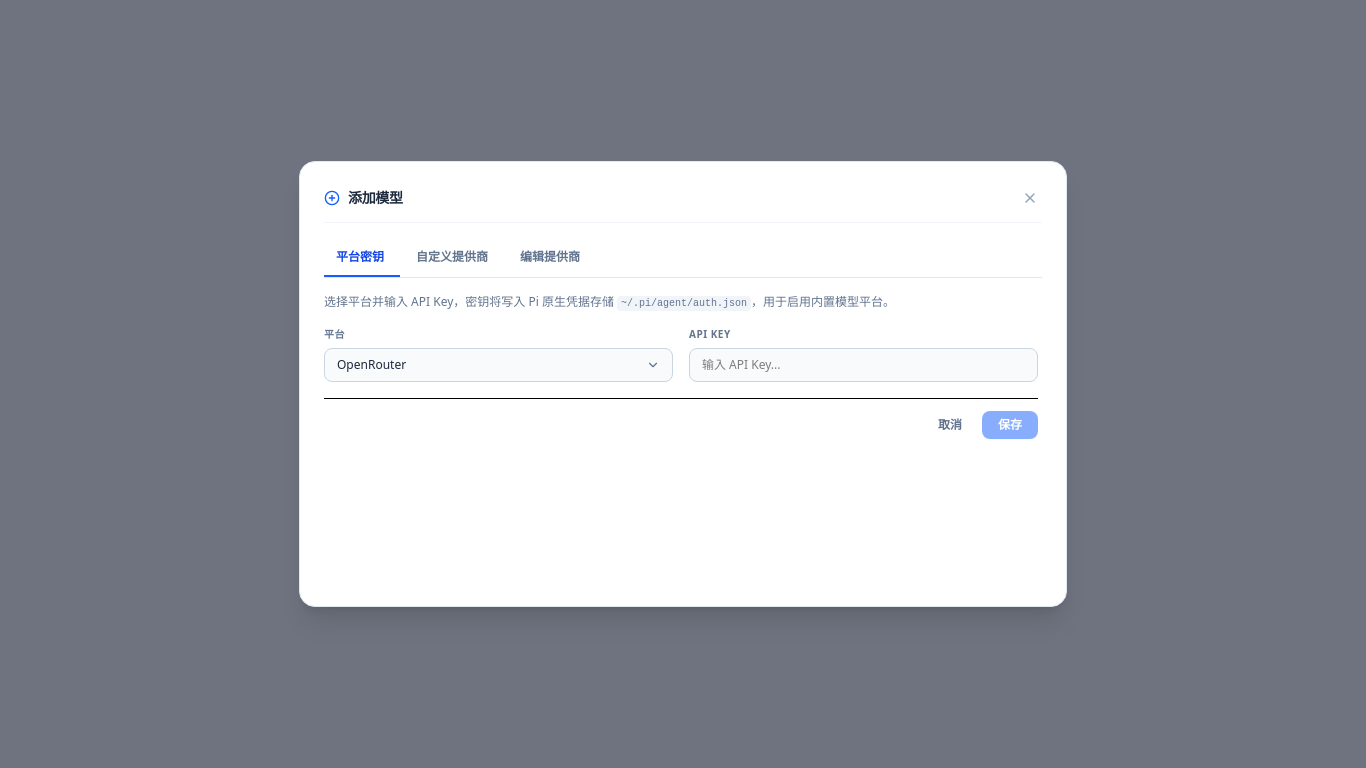
Test case: ProviderModal 行为 › 列表渲染：切到「编辑提供商」后展示 fetch 返回的提供商
Click the button "编辑提供商". click: point(550, 258)
box: left=504, top=239, right=596, bottom=277
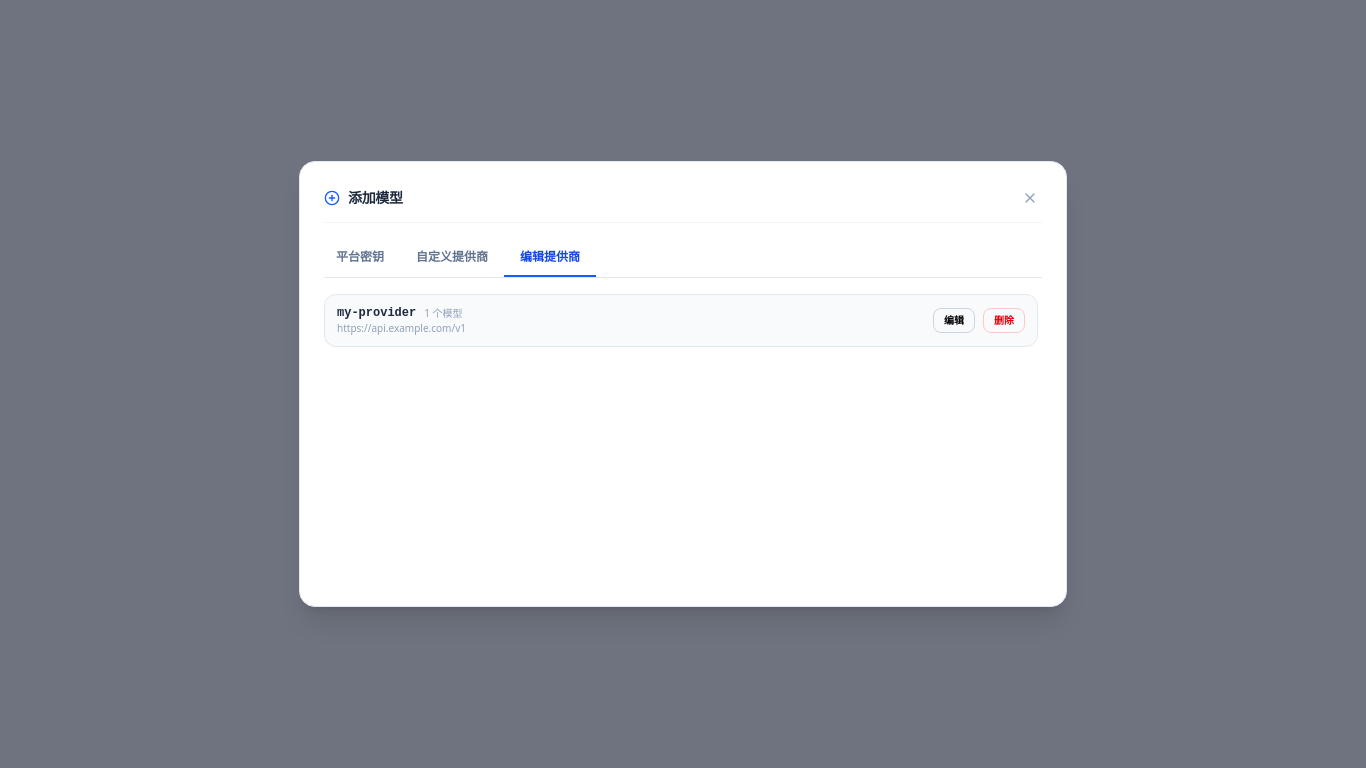
Expected: the text "my-provider" is shown, left=337, top=305, right=416, bottom=321
Expected: the text "1 个模型" is shown, left=424, top=306, right=462, bottom=321
Expected: the text "https://api.example.com/v1" is shown, left=337, top=321, right=466, bottom=336
